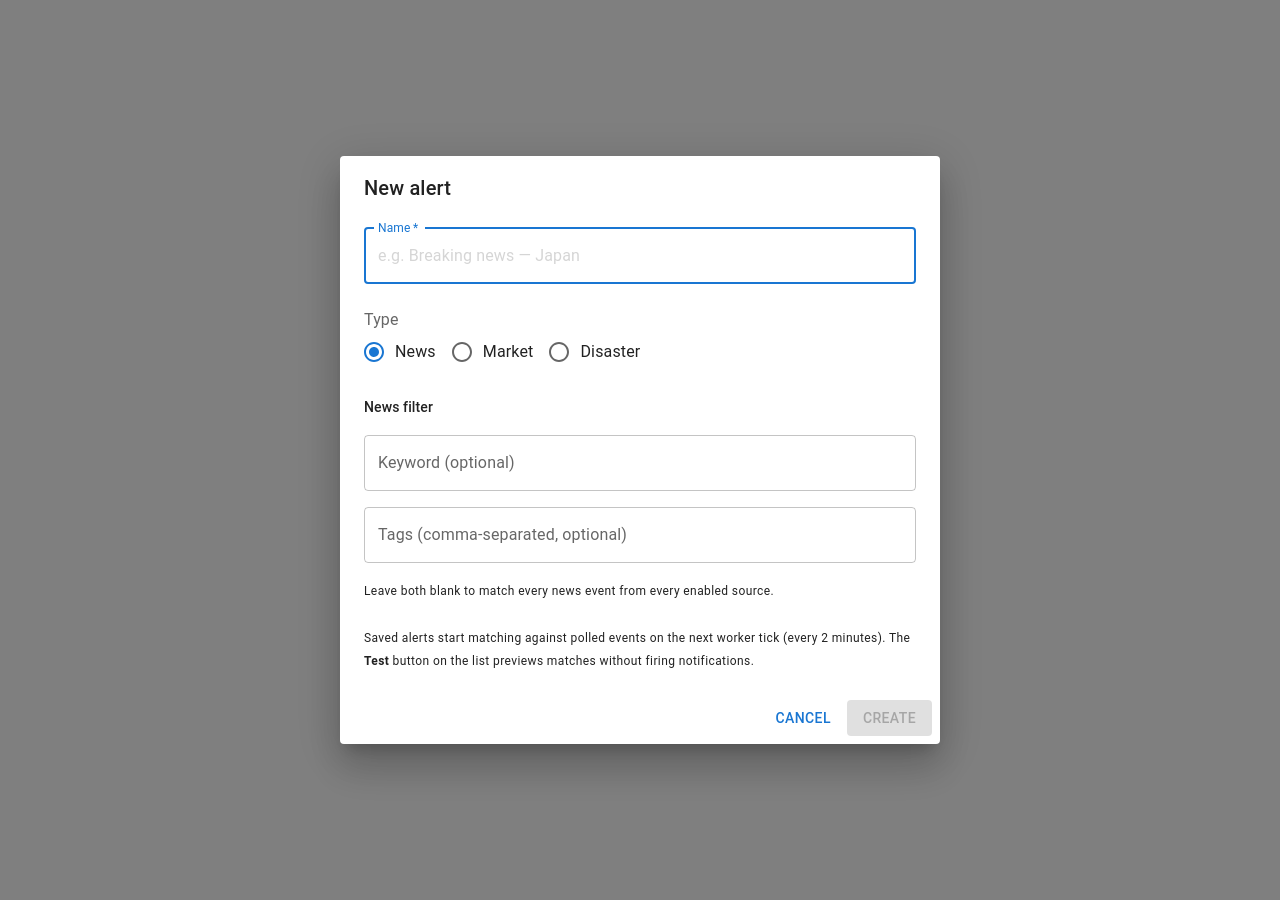
Test: AlertEditorDialog › shows market-specific filter fields when Market is selected
The image size is (1280, 900).
Click the radio button labelled "Market" at (492, 352), box [450,340,534,364]
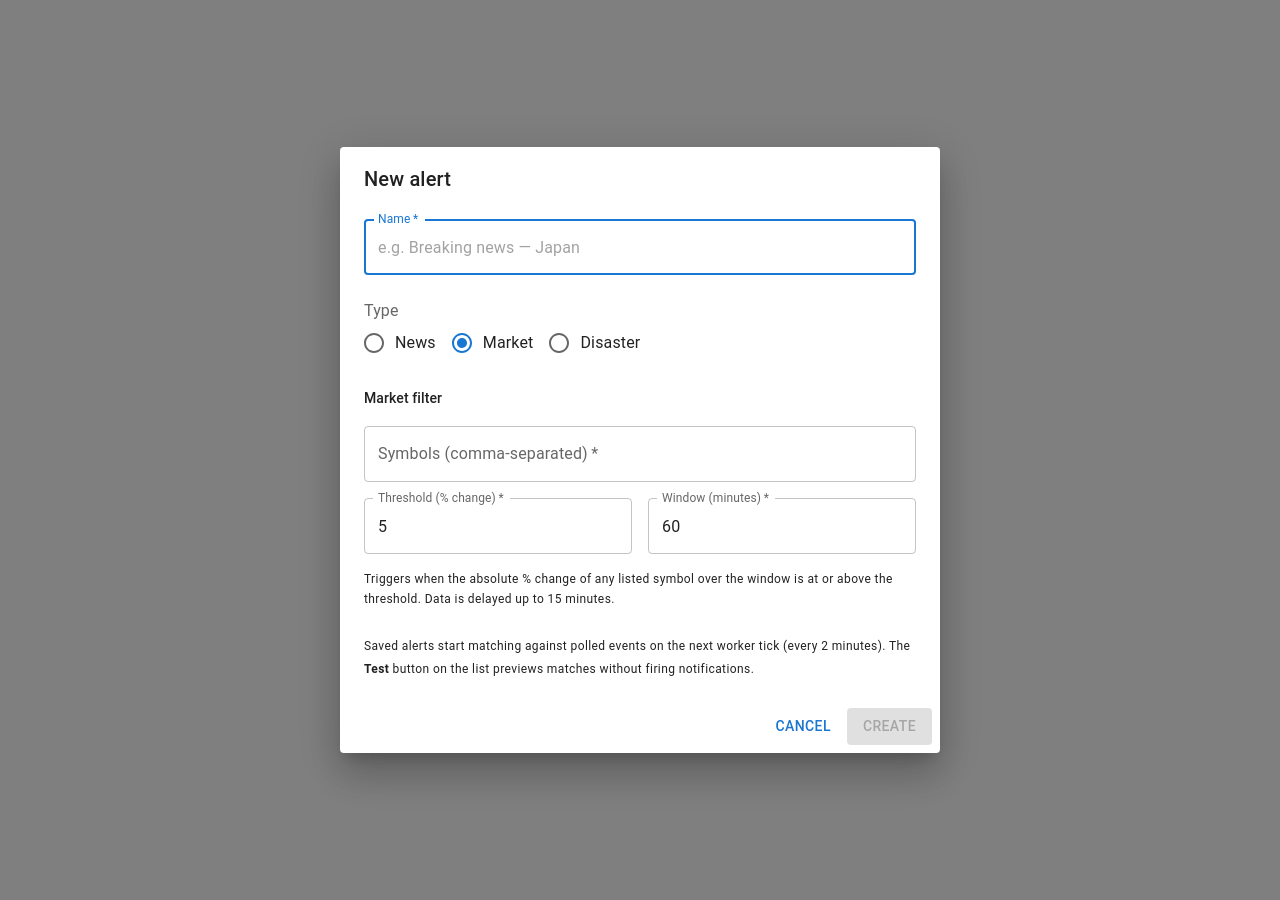
Result: the field labelled "Symbols (comma-separated) *" is shown at [364,426,916,482]
